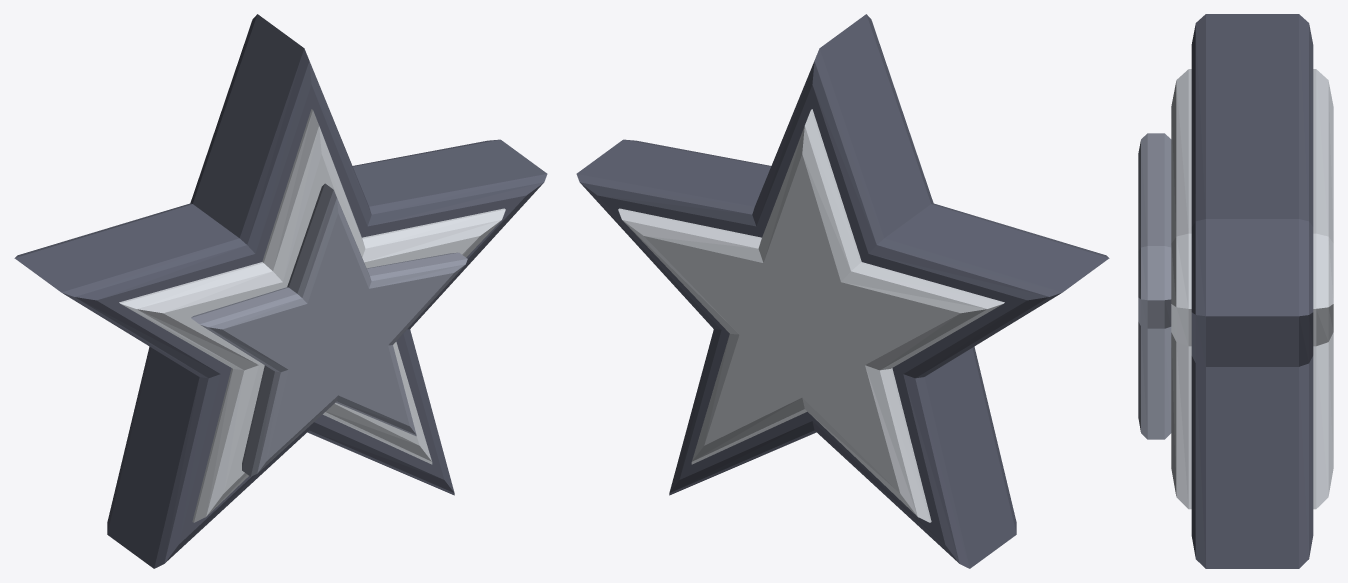
File: game-ui-icon-library-star-03f8fa8b__19010.glb
The picture shows the model from 3 angles, left to right: view 1: azimuth 30°, elevation 25°; view 2: azimuth 150°, elevation 25°; view 3: azimuth 270°, elevation 25°; orthographic projection.
Visible parts, largest first — view 1: star; view 2: star; view 3: star.
Boxes of the visible parts, left/top/right/bottom form: star: left=14, top=14, right=547, bottom=568; star: left=576, top=14, right=1109, bottom=568; star: left=1138, top=14, right=1333, bottom=568.
Bounding box in the file's own units: 0.98 × 0.932 × 0.342.
